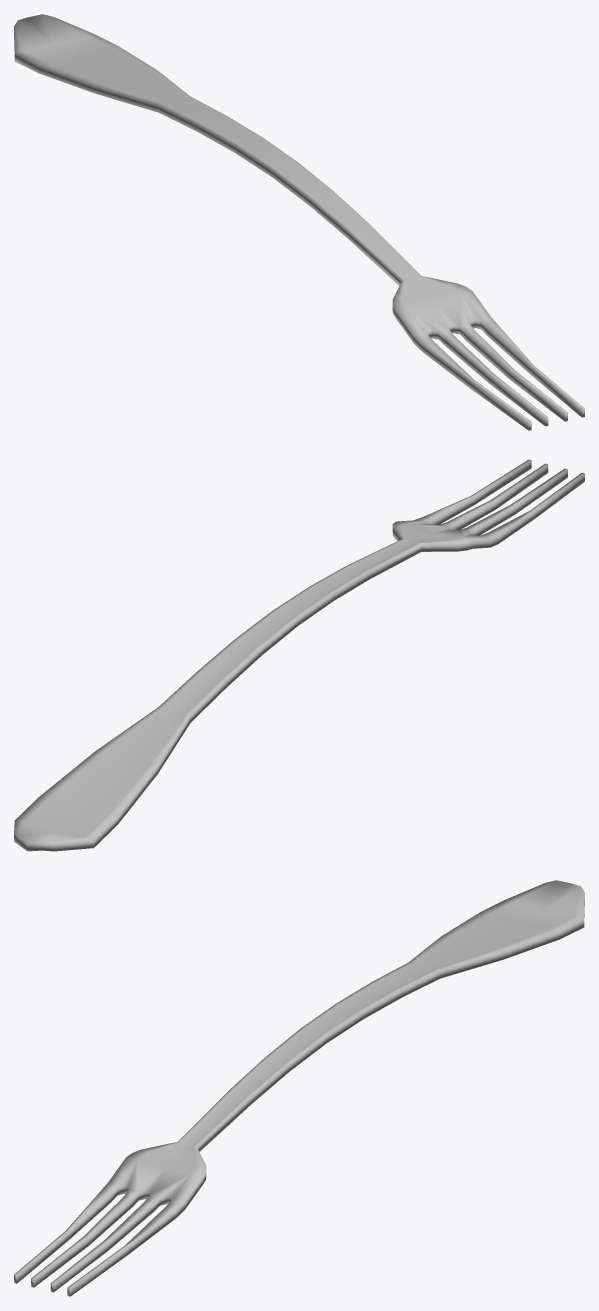
The model's file is Fork.fbx.
The picture shows the model from 3 angles, top to bottom: view 1: azimuth 30°, elevation 25°; view 2: azimuth 150°, elevation 25°; view 3: azimuth 330°, elevation 25°; orthographic projection.
Parts seen in each view (by area): view 1: Fork; view 2: Fork; view 3: Fork.
Boxes of the visible parts, bbox=[...] form: Fork: bbox=[14, 14, 584, 430]; Fork: bbox=[14, 459, 584, 851]; Fork: bbox=[14, 880, 584, 1296].
Size of the model in its own units: 0.00727 by 0.00522 by 0.0843.
1 material, 1 textured.
